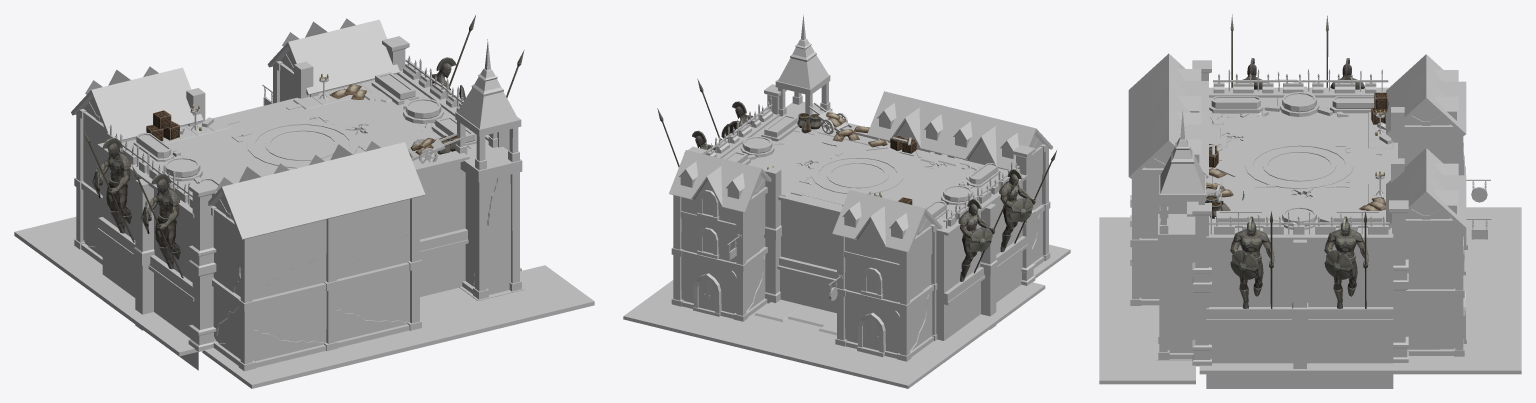
The model's file is Cell1U_D.fbx.
The picture shows the model from 3 angles, left to right: view 1: azimuth 30°, elevation 25°; view 2: azimuth 150°, elevation 25°; view 3: azimuth 270°, elevation 25°; orthographic projection. The views are drawn at different scales.
Visible parts, largest first — view 1: Cell1U_D; view 2: Cell1U_D; view 3: Cell1U_D.
Boxes of the visible parts, left/top/right/bottom form: Cell1U_D: left=14, top=15, right=594, bottom=388; Cell1U_D: left=623, top=14, right=1070, bottom=388; Cell1U_D: left=1099, top=14, right=1521, bottom=388.
Size of the model in its own units: 37.97 by 24.27 by 34.47.
